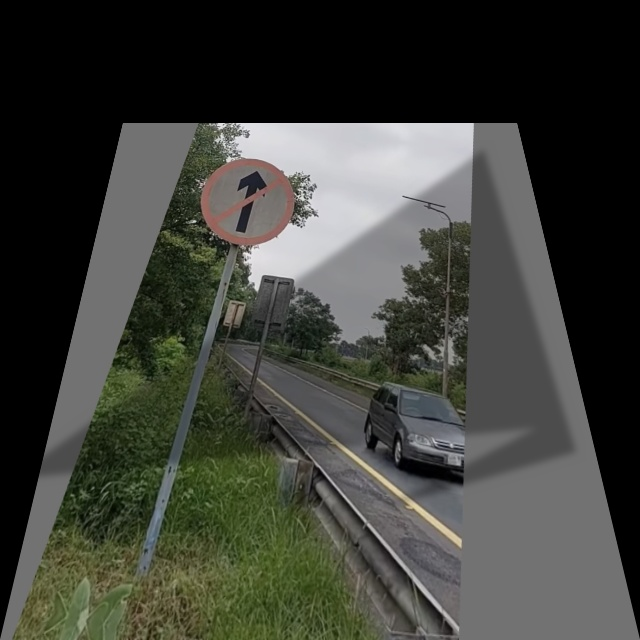No_Entry: (187, 154, 302, 250)
